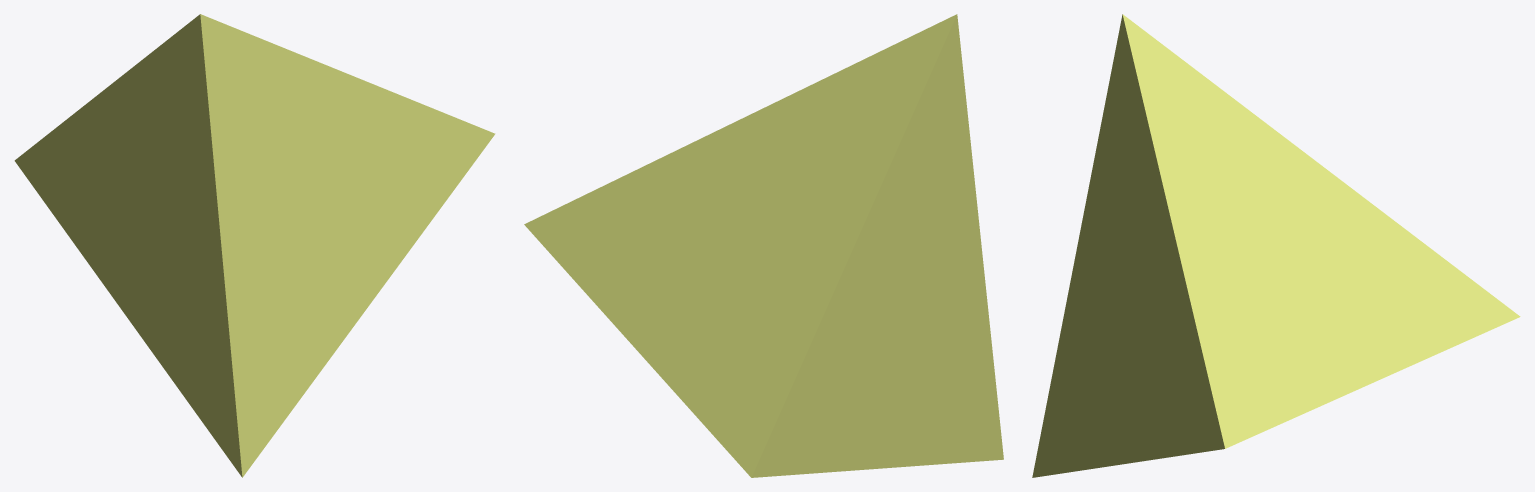
Rendered from Tetrahedron.fbx.
The picture shows the model from 3 angles, left to right: view 1: azimuth 30°, elevation 25°; view 2: azimuth 150°, elevation 25°; view 3: azimuth 270°, elevation 25°; orthographic projection. The views are drawn at different scales.
Visible parts, largest first — view 1: pPyramid1; view 2: pPyramid1; view 3: pPyramid1.
Part boxes in pixels (x1,y1,x2,y2): pPyramid1: (14, 14, 495, 477); pPyramid1: (524, 14, 1003, 477); pPyramid1: (1032, 14, 1520, 477).
Size of the model in its own units: 0.8165 by 0.9848 by 0.9397.
